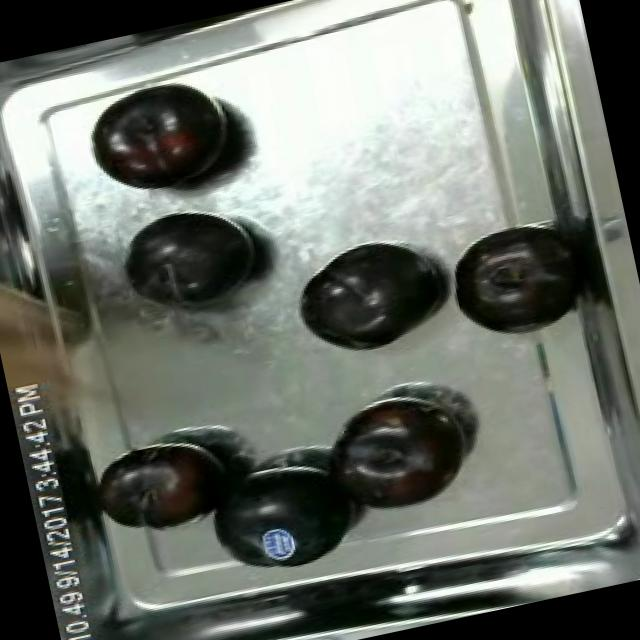Fruit: (100, 184, 282, 333), (75, 65, 255, 214), (186, 445, 370, 589), (279, 224, 455, 368), (312, 381, 479, 527), (84, 418, 245, 550), (444, 220, 569, 344), (0, 248, 94, 408)
